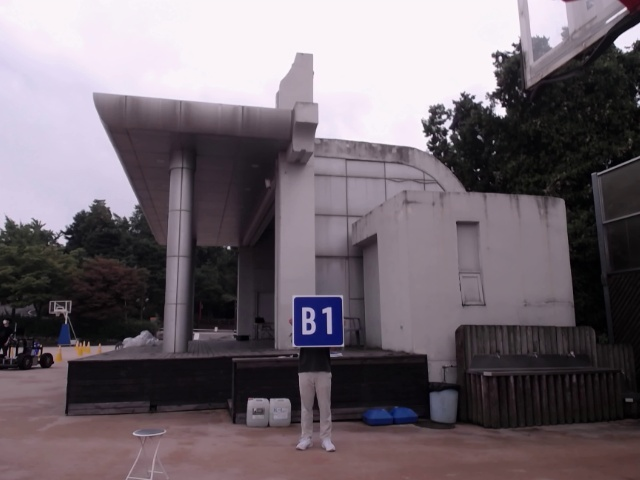delivery_b1: (292, 296, 344, 347)
